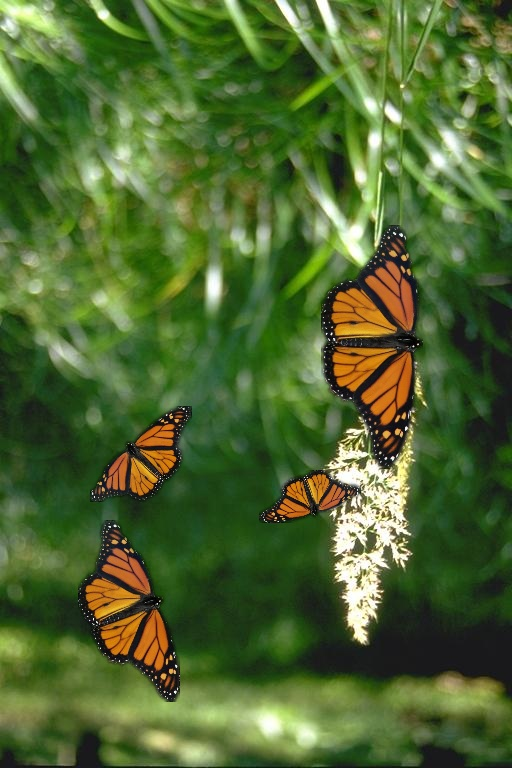danaus_plexippus: (321, 225, 423, 469), (78, 520, 180, 702), (90, 406, 192, 502), (259, 470, 361, 523)
